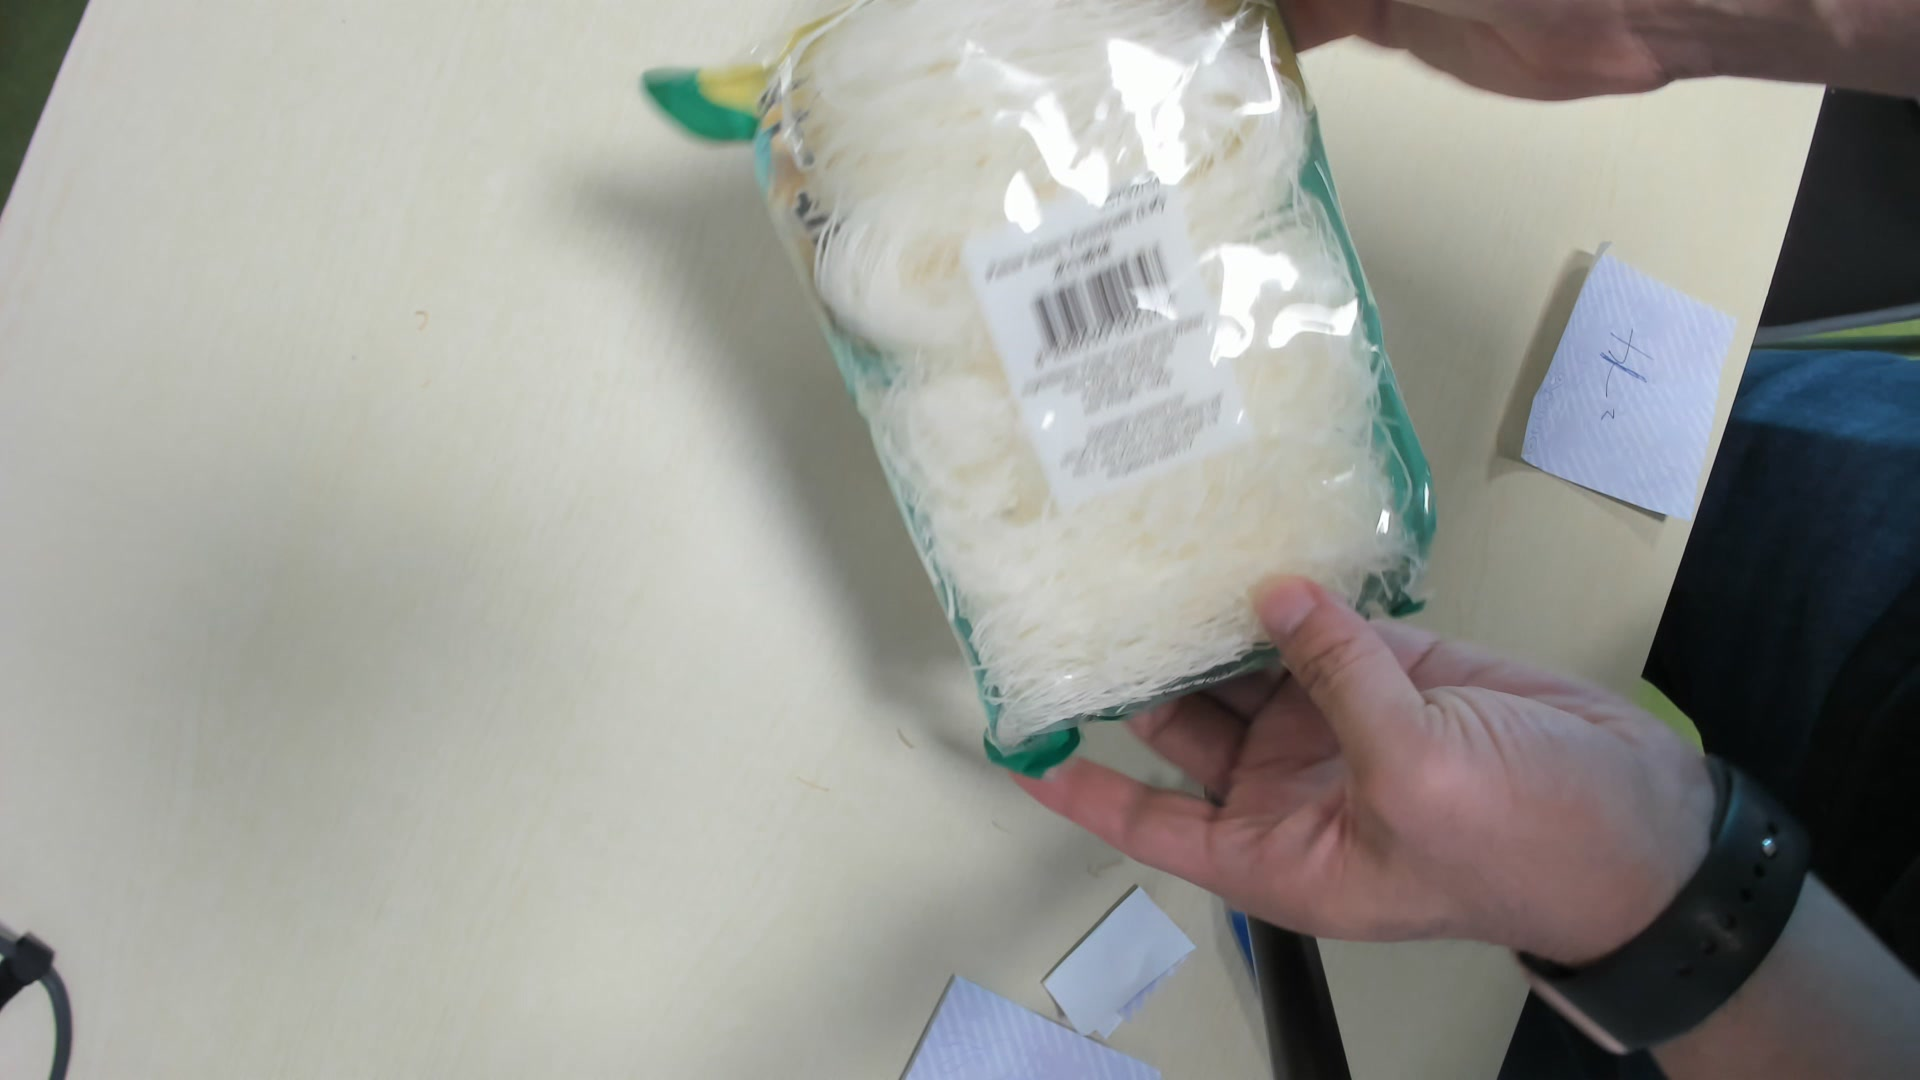BeeHoonVermicelli_100-199g_NonHalal_NonHealthy: (731, 1, 1455, 783)
